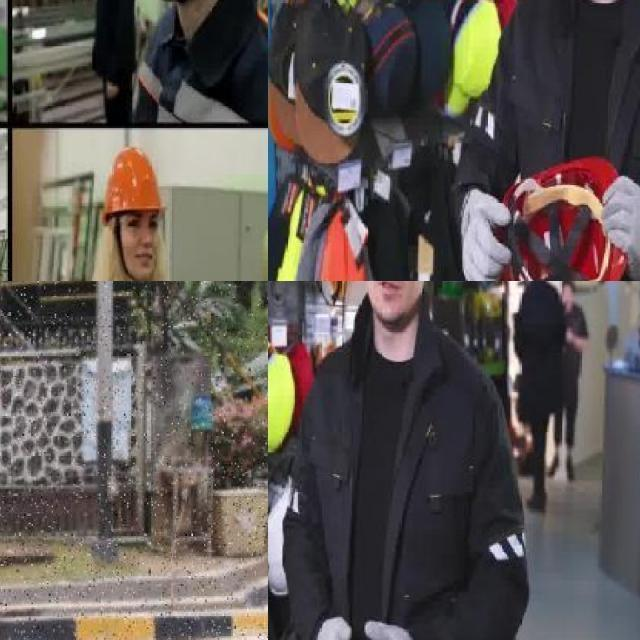apron: (458, 189, 512, 281), (597, 172, 640, 281), (313, 610, 353, 640)
